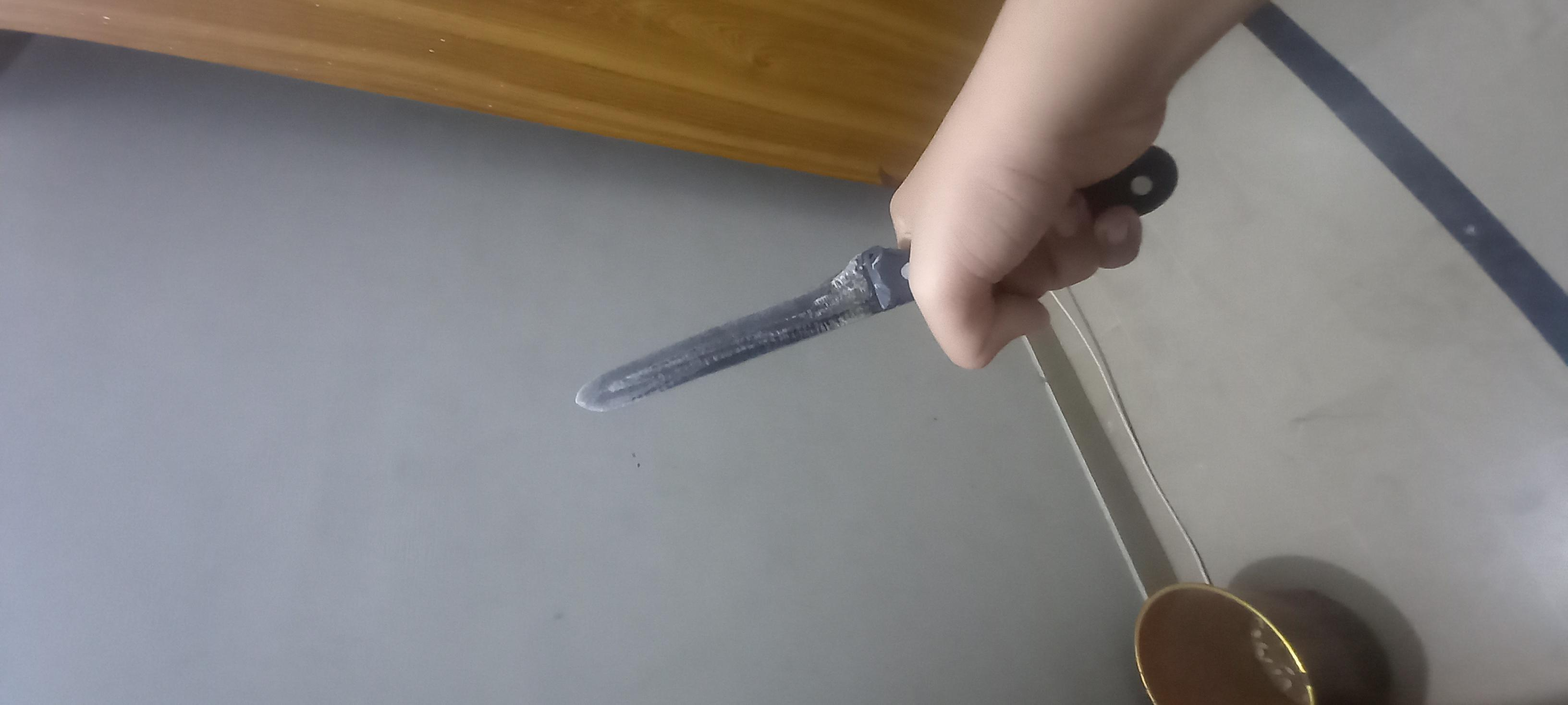knives: (601, 253, 1257, 530)
